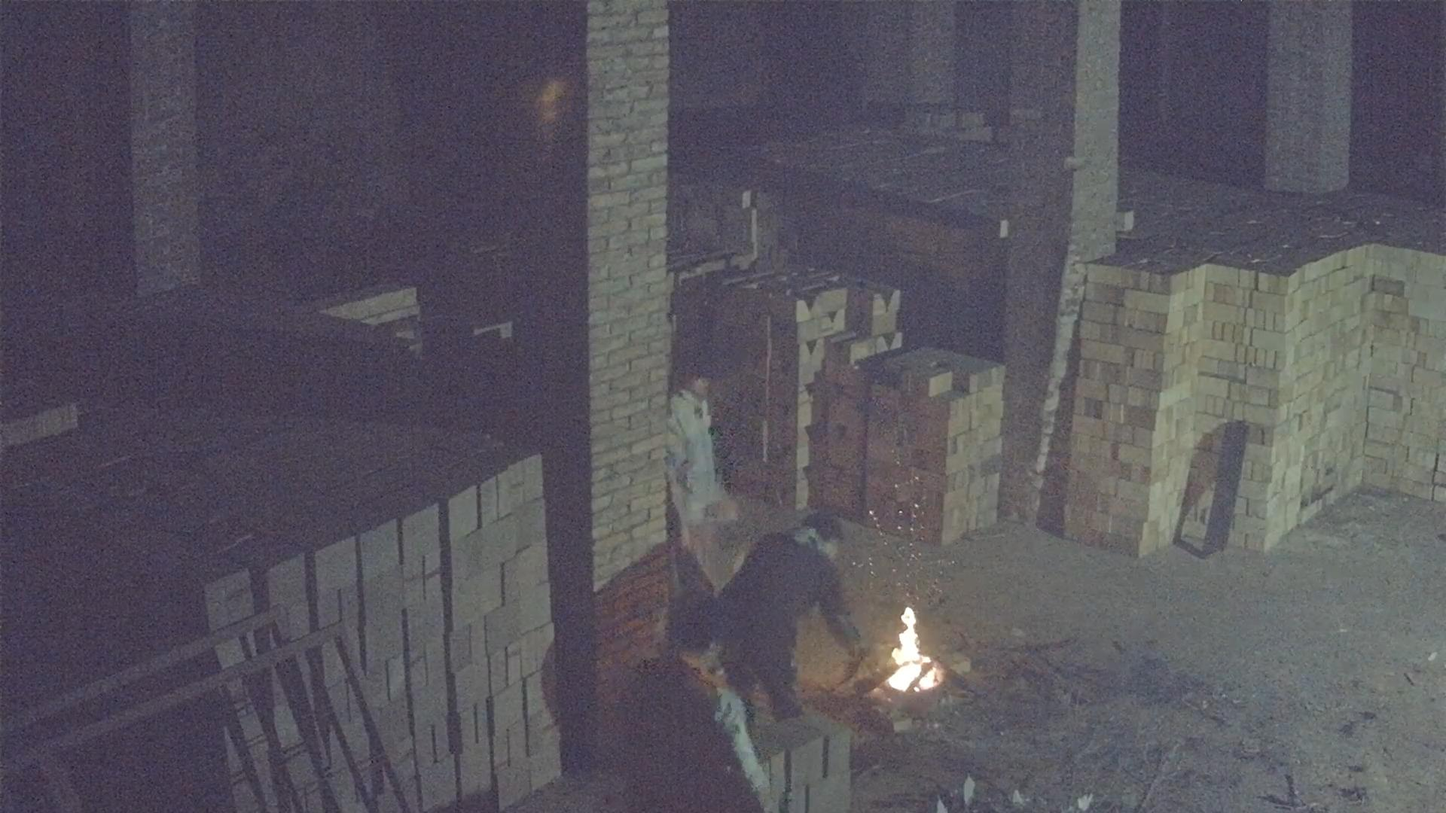fire: (886, 607, 941, 692)
